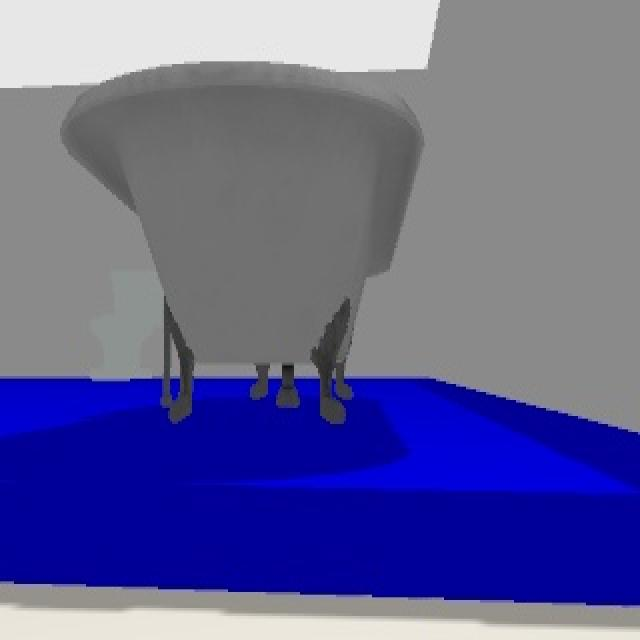bathtub: (58, 64, 428, 421)
